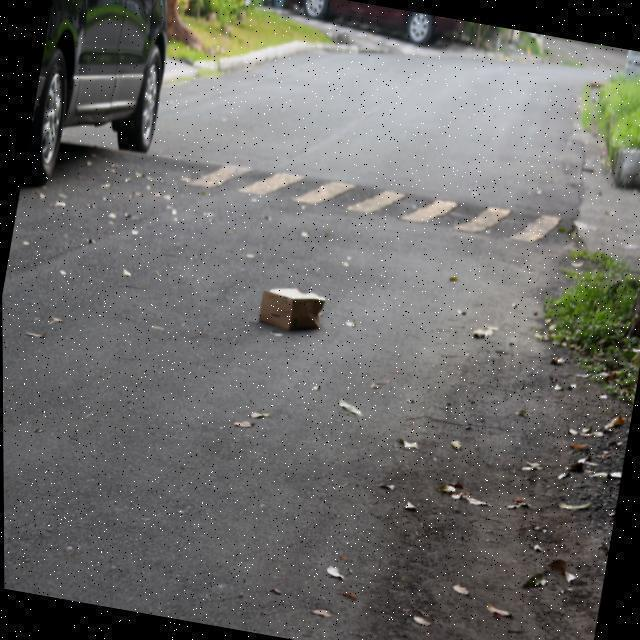Paper_Bag: (256, 282, 326, 336)
